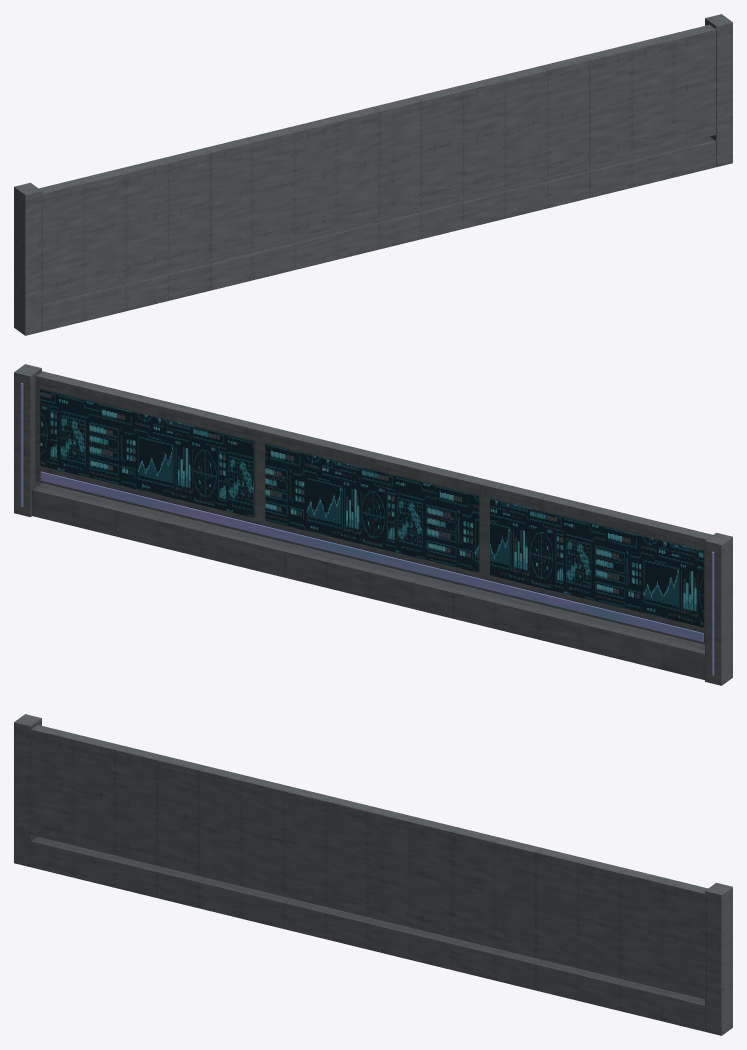
Rendered from base_market_wall.glb.
The picture shows the model from 3 angles, top to bottom: view 1: azimuth 30°, elevation 25°; view 2: azimuth 150°, elevation 25°; view 3: azimuth 330°, elevation 25°; orthographic projection.
Parts seen in each view (by area): view 1: base_market_wall; view 2: base_market_wall; view 3: base_market_wall.
Boxes of the visible parts, bbox=[...] form: base_market_wall: bbox=[14, 14, 732, 335]; base_market_wall: bbox=[14, 364, 732, 685]; base_market_wall: bbox=[14, 714, 732, 1035].
Size of the model in its own units: 25.2 by 4.8 by 0.745.
Materials: 3 (3 with a texture image).
